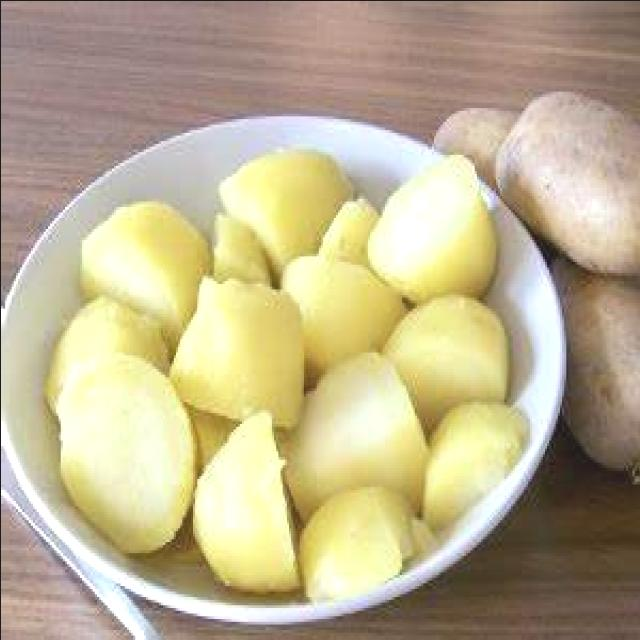kentang rebus: (43, 283, 203, 558), (188, 409, 305, 602), (166, 277, 307, 434), (363, 154, 499, 305)
